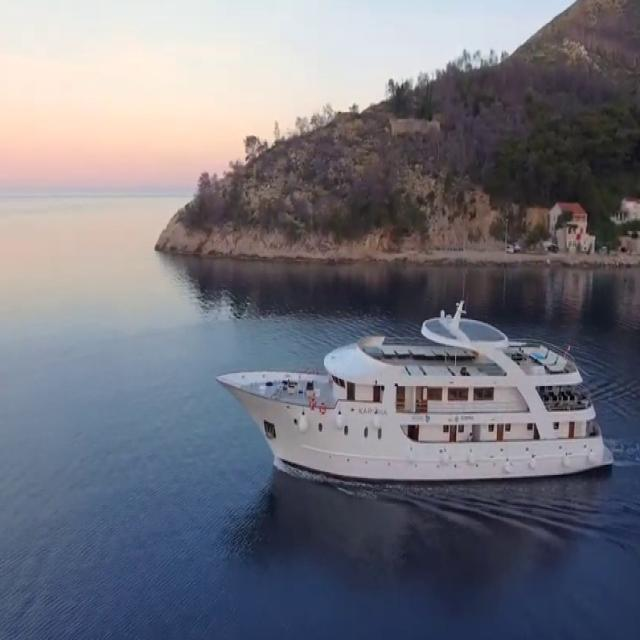passenger ship: (212, 306, 608, 480)
